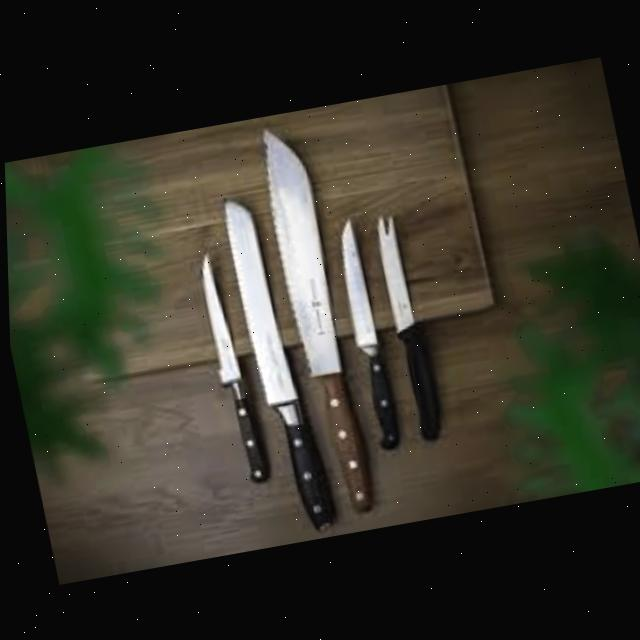knife: (251, 119, 375, 516), (216, 187, 332, 533), (190, 245, 265, 482), (368, 210, 441, 441), (327, 215, 397, 448)
